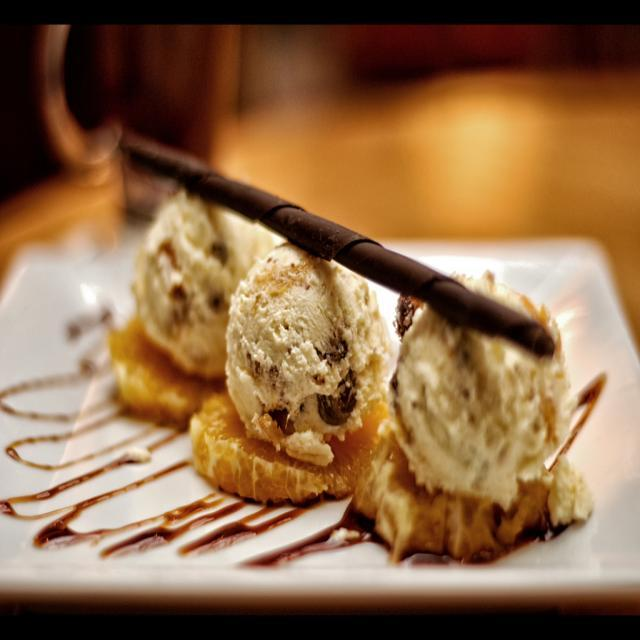Ice cream: (377, 265, 599, 538), (210, 233, 400, 481), (128, 182, 274, 383)
